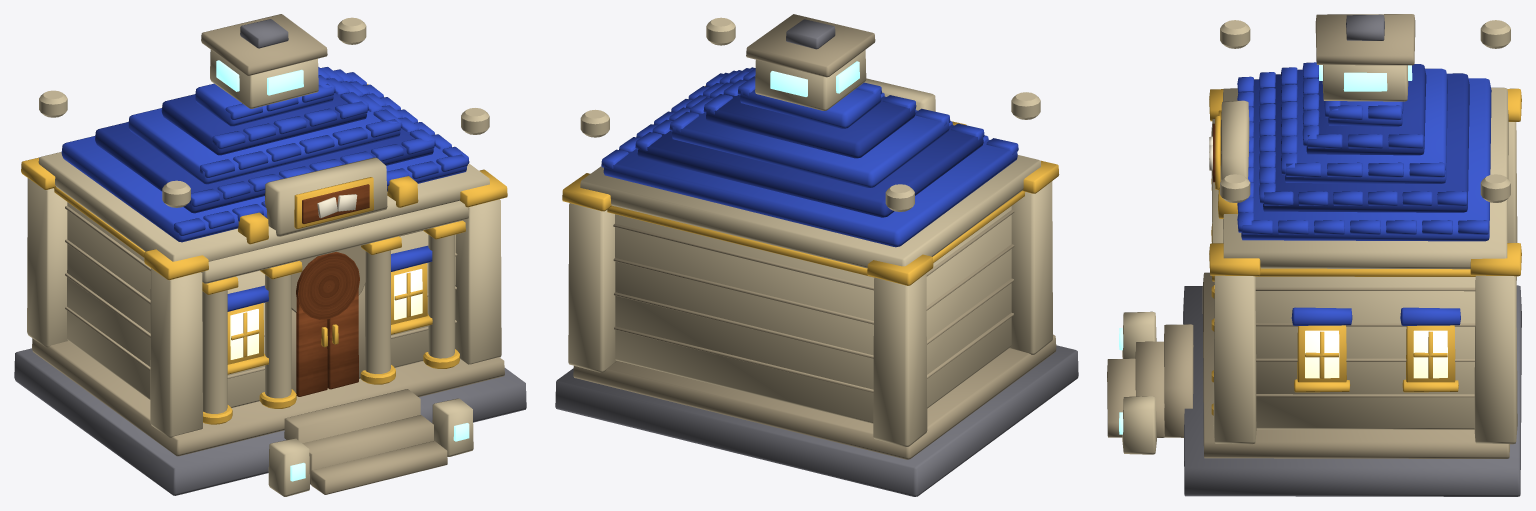
The model's file is OBJ08_sql_archive.glb.
The picture shows the model from 3 angles, left to right: view 1: azimuth 30°, elevation 25°; view 2: azimuth 150°, elevation 25°; view 3: azimuth 270°, elevation 25°; orthographic projection. The views are drawn at different scales.
Visible parts, largest first — view 1: HallBody, PlinthLow, PlinthUp, Cornice, Pilaster_-1_1, Pilaster_1_1, Pilaster_-1_-1, RoofCourse_0, Entablature, RoofCourse_1, RoofCourse_2, Pediment (+44 smaller); view 2: HallBody, PlinthLow, Cornice, PlinthUp, RoofCourse_0, RoofCourse_1, Pilaster_-1_-1, RoofCourse_2, Pilaster_1_-1, Pilaster_-1_1, CourseJoints, RoofCourse_3 (+18 smaller); view 3: HallBody, PlinthLow, Cornice, PlinthUp, RoofCourse_0, Pilaster_1_-1, Pilaster_1_1, RoofCourse_1, RoofCourse_2, RoofTiles_1, RoofTiles_0, LanternCap (+33 smaller).
Boxes of the visible parts, box(x1,y1,x2,y2) form: HallBody: box(67, 202, 455, 407); PlinthLow: box(14, 348, 526, 495); PlinthUp: box(32, 338, 504, 456); Cornice: box(38, 152, 489, 261); Pilaster_-1_1: box(150, 268, 202, 437); Pilaster_1_1: box(455, 199, 501, 364); Pilaster_-1_-1: box(27, 178, 68, 347); RoofCourse_0: box(61, 84, 466, 242); Entablature: box(201, 200, 468, 283); RoofCourse_1: box(95, 81, 433, 213); RoofCourse_2: box(128, 81, 400, 184); Pediment: box(265, 157, 387, 236); HallBody: box(615, 206, 1011, 423); PlinthLow: box(555, 345, 1078, 496); Cornice: box(580, 155, 1040, 268); PlinthUp: box(573, 334, 1056, 459); RoofCourse_0: box(603, 87, 1017, 247); RoofCourse_1: box(637, 83, 983, 217); Pilaster_-1_-1: box(873, 273, 927, 447); RoofCourse_2: box(671, 83, 949, 187); Pilaster_1_-1: box(568, 203, 616, 372); Pilaster_-1_1: box(1009, 181, 1052, 354); CourseJoints: box(613, 210, 1014, 392); RoofCourse_3: box(706, 80, 915, 158); HallBody: box(1255, 276, 1475, 429); PlinthLow: box(1183, 285, 1521, 496); Cornice: box(1223, 87, 1508, 269); PlinthUp: box(1202, 272, 1509, 458); RoofCourse_0: box(1241, 78, 1491, 241); Pilaster_1_-1: box(1474, 275, 1517, 444); Pilaster_1_1: box(1213, 275, 1256, 444); RoofCourse_1: box(1263, 73, 1469, 212); RoofCourse_2: box(1285, 68, 1447, 183); RoofTiles_1: box(1259, 72, 1467, 205); RoofTiles_0: box(1237, 76, 1489, 234); LanternCap: box(1315, 14, 1415, 65).
Size of the model in its own units: 2 by 1.95 by 1.91.
10 materials, 1 textured.
